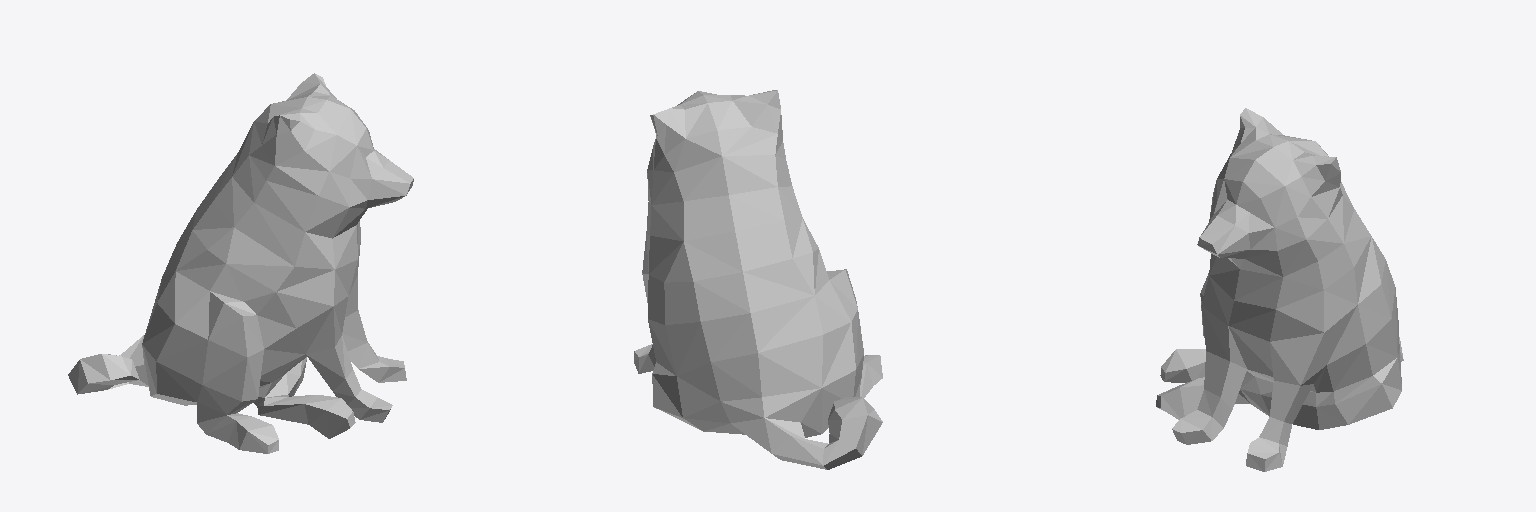
File: dog.obj
3 views of the same model, side by side, from view 1: azimuth 30°, elevation 25°; view 2: azimuth 150°, elevation 25°; view 3: azimuth 270°, elevation 25° (orthographic).
Visible parts, largest first — view 1: Doggy_Meme_Dog_PS1; view 2: Doggy_Meme_Dog_PS1; view 3: Doggy_Meme_Dog_PS1.
Part boxes in pixels (x1,y1,x2,y2): Doggy_Meme_Dog_PS1: (68,73,413,453); Doggy_Meme_Dog_PS1: (634,90,882,469); Doggy_Meme_Dog_PS1: (1156,108,1403,471).
Bounding box in the file's own units: 2.13 × 2.18 × 1.61.